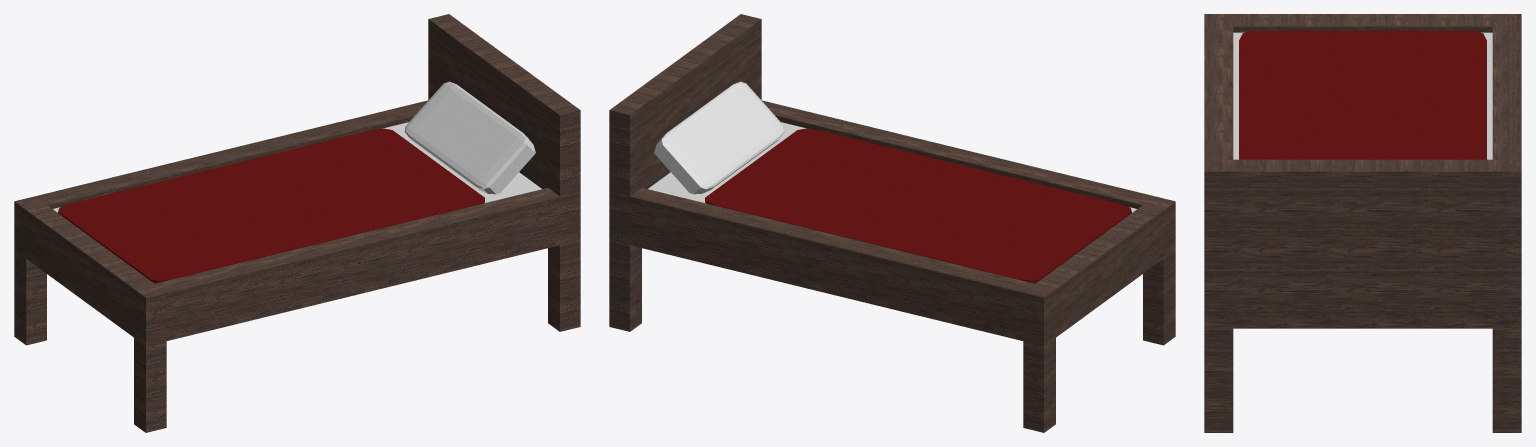
File: bed.glb
3 renders of one model, left to right at view 1: azimuth 30°, elevation 25°; view 2: azimuth 150°, elevation 25°; view 3: azimuth 270°, elevation 25°, orthographic. The views are drawn at different scales.
Visible parts, largest first — view 1: Bed; view 2: Bed; view 3: Bed.
Part boxes in pixels (box(x1,y1,x2,y2)): Bed: box(14, 14, 580, 432); Bed: box(609, 14, 1175, 432); Bed: box(1204, 14, 1521, 432).
Size of the model in its own units: 2.1 by 1 by 1.1.
3 materials, 3 textured.
